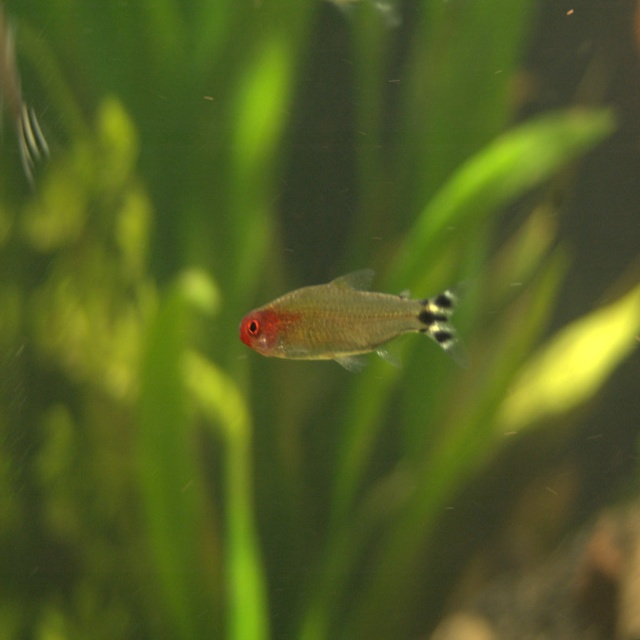Fish: (241, 262, 460, 380)
